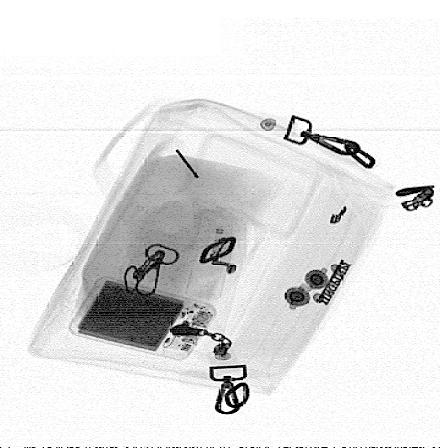Powerbank: (66, 276, 216, 361)
